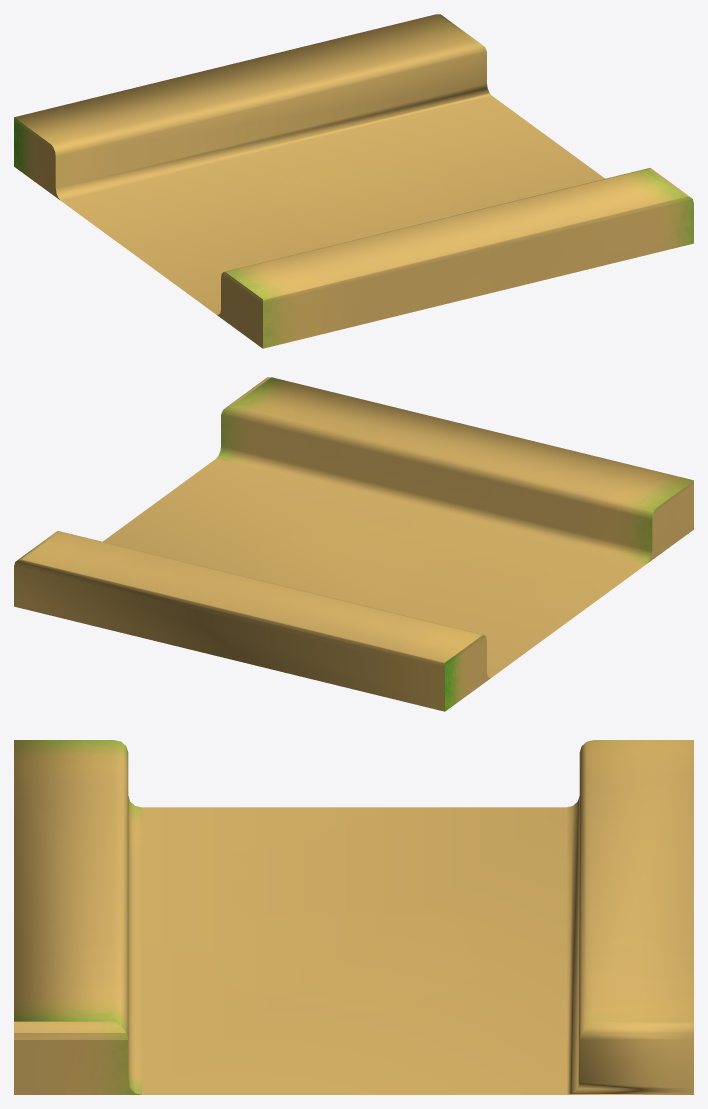
Rendered from Map017.obj.
3 views of the same model, one above another, from view 1: azimuth 30°, elevation 25°; view 2: azimuth 150°, elevation 25°; view 3: azimuth 270°, elevation 25° (orthographic). The views are drawn at different scales.
Visible parts, largest first — view 1: Map.017_Plane.035; view 2: Map.017_Plane.035; view 3: Map.017_Plane.035.
Part boxes in pixels (x1,y1,x2,y2): Map.017_Plane.035: [14, 14, 693, 348]; Map.017_Plane.035: [14, 377, 693, 711]; Map.017_Plane.035: [14, 740, 693, 1094].
Size of the model in its own units: 1 by 0.1093 by 1.
1 material, 1 textured.
